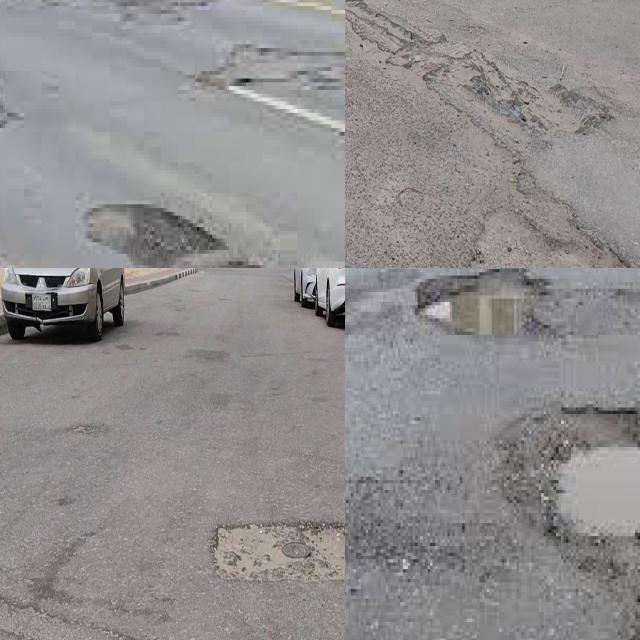Pothole: (512, 421, 640, 552), (84, 204, 270, 268), (213, 520, 345, 580), (415, 269, 526, 335)
